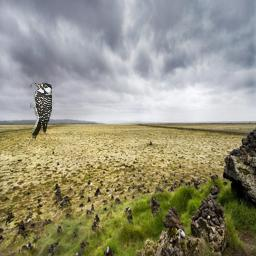Woodpecker: (30, 82, 52, 142)
